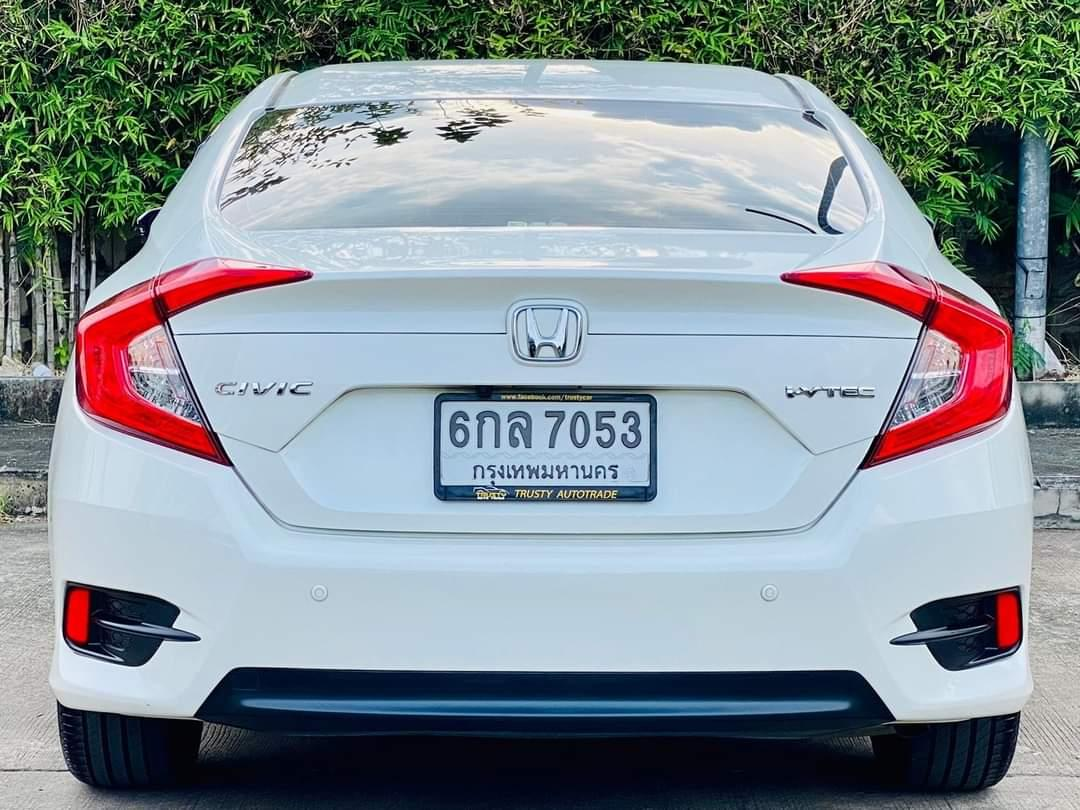license-plate: (433, 393, 659, 506)
